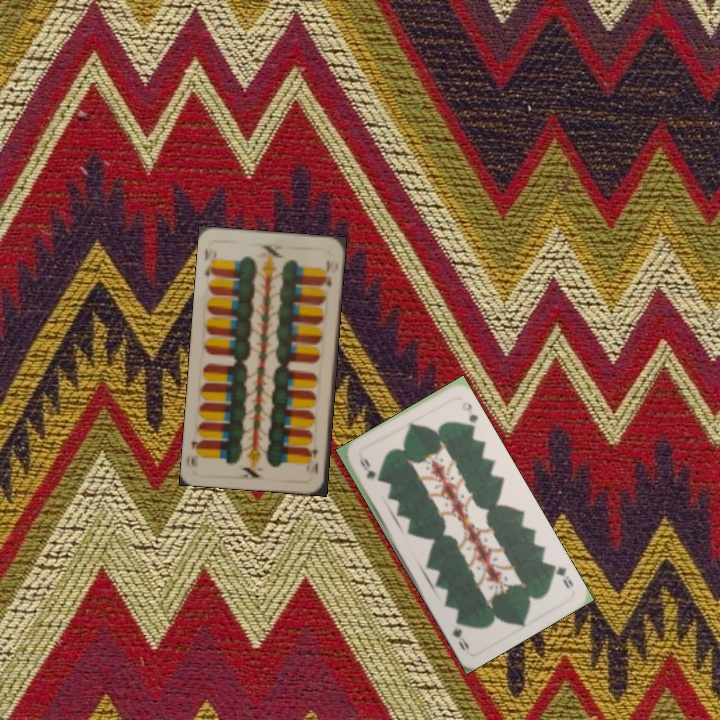E10: (200, 244, 218, 280), (305, 438, 321, 478)
G9: (546, 560, 576, 591), (355, 455, 377, 481)
